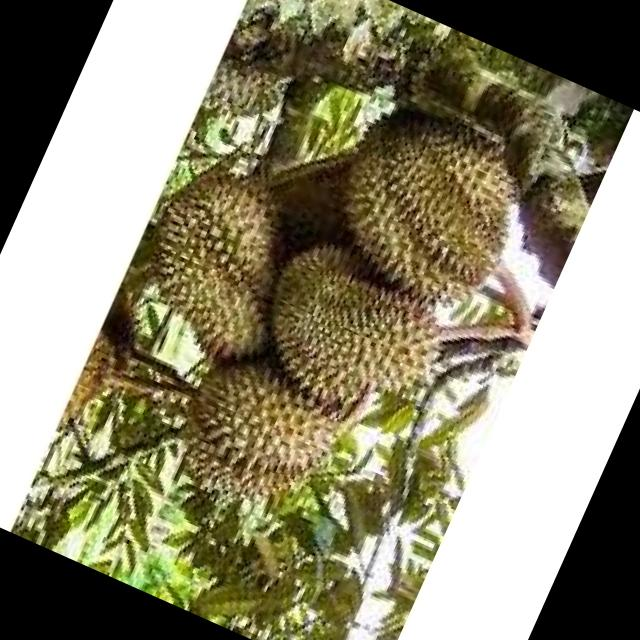fruit: (284, 54, 576, 343), (216, 208, 494, 462), (137, 318, 387, 558), (109, 149, 332, 386)
